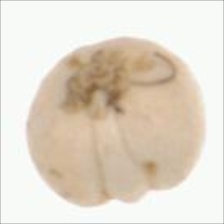L5: (52, 47, 173, 122), (89, 112, 154, 205)
L6: (26, 35, 206, 209)
